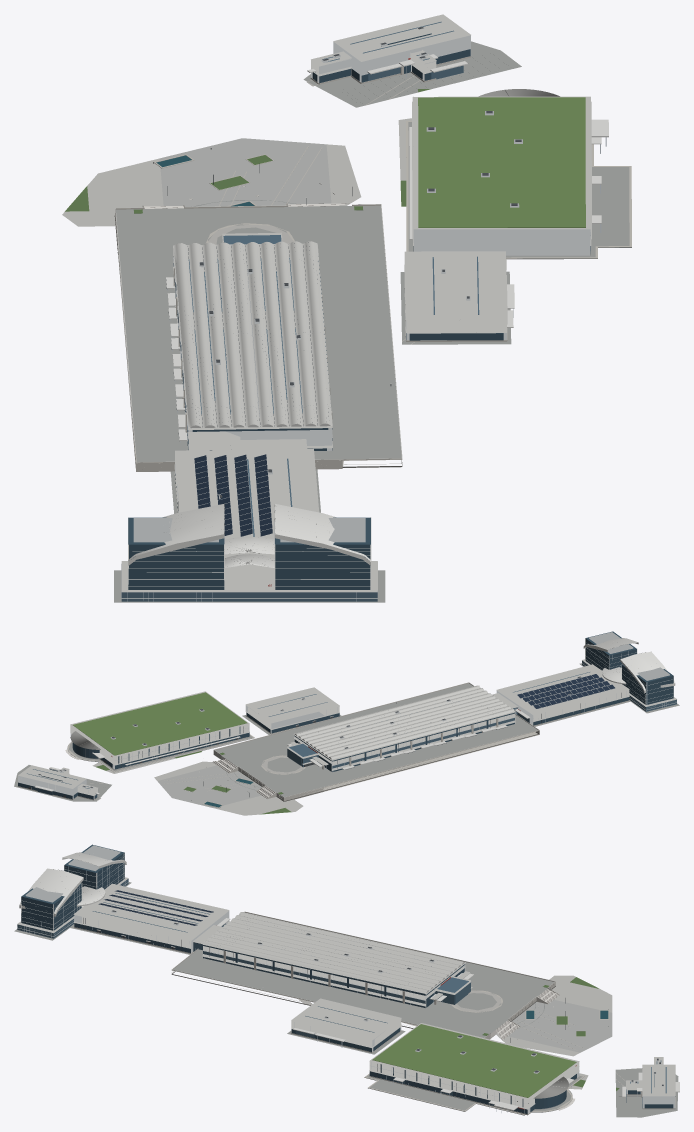
3 renders of one model, top to bottom at view 1: azimuth 30°, elevation 25°; view 2: azimuth 150°, elevation 25°; view 3: azimuth 270°, elevation 25°, orthographic. The views are drawn at different scales.
Parts seen in each view (by area): view 1: NICEC_M_v8_white, NICEC_M_v8_pave2, NICEC_M_v8_greenroof, NICEC_M_v8_glass, NICEC_M_v8_metal, NICEC_M_pave_mid, NICEC_M_v8_membrane, NICEC_M_pave_light, NICEC_M_v8_glass2, NICEC_M_v8_stone, NICEC_M_v8_solar, NICEC_M_v8_awning (+1 smaller); view 2: NICEC_M_v8_white, NICEC_M_v8_pave2, NICEC_M_v8_greenroof, NICEC_M_v8_glass, NICEC_M_v8_stone, NICEC_M_pave_mid, NICEC_M_v8_metal, NICEC_M_v8_glass2, NICEC_M_pave_light, NICEC_M_v8_solar, NICEC_M_v8_membrane, NICEC_M_v8_awning (+3 smaller); view 3: NICEC_M_v8_white, NICEC_M_v8_pave2, NICEC_M_v8_greenroof, NICEC_M_v8_glass, NICEC_M_pave_mid, NICEC_M_v8_stone, NICEC_M_v8_glass2, NICEC_M_v8_metal, NICEC_M_pave_light, NICEC_M_v8_membrane, NICEC_M_v8_solar, NICEC_M_v8_awning (+2 smaller).
Boxes of the visible parts, x1,y1,x2,y2 form: NICEC_M_v8_white: (115,14,591,598); NICEC_M_v8_pave2: (114,41,631,602); NICEC_M_v8_greenroof: (418,97,585,227); NICEC_M_v8_glass: (128,33,590,589); NICEC_M_v8_metal: (133,26,590,542); NICEC_M_pave_mid: (159,138,331,206); NICEC_M_v8_membrane: (128,504,370,567); NICEC_M_pave_light: (62,81,411,226); NICEC_M_v8_glass2: (121,21,479,601); NICEC_M_v8_stone: (115,56,631,512); NICEC_M_v8_solar: (194,454,272,536); NICEC_M_v8_awning: (166,54,608,440); NICEC_M_v8_white: (18,638,676,798); NICEC_M_v8_pave2: (14,663,679,801); NICEC_M_v8_greenroof: (73,692,247,755); NICEC_M_v8_glass: (18,631,673,799); NICEC_M_v8_stone: (17,682,629,807); NICEC_M_pave_mid: (157,765,261,807); NICEC_M_v8_metal: (18,632,669,799); NICEC_M_v8_glass2: (27,660,676,797); NICEC_M_pave_light: (92,757,303,815); NICEC_M_v8_solar: (517,674,614,708); NICEC_M_v8_membrane: (583,638,675,693); NICEC_M_v8_awning: (34,709,530,794); NICEC_M_v8_white: (17,852,675,1109); NICEC_M_v8_pave2: (14,882,678,1117); NICEC_M_v8_greenroof: (372,1024,576,1097); NICEC_M_v8_glass: (21,844,675,1114); NICEC_M_pave_mid: (496,1000,612,1052); NICEC_M_v8_stone: (74,911,675,1115); NICEC_M_v8_glass2: (17,879,666,1105); NICEC_M_v8_metal: (25,845,675,1113); NICEC_M_pave_light: (495,975,612,1089); NICEC_M_v8_membrane: (19,852,126,916); NICEC_M_v8_solar: (98,890,213,925); NICEC_M_v8_awning: (217,918,679,1110).
Bounding box in the file's own units: 741 × 59.15 × 853.
